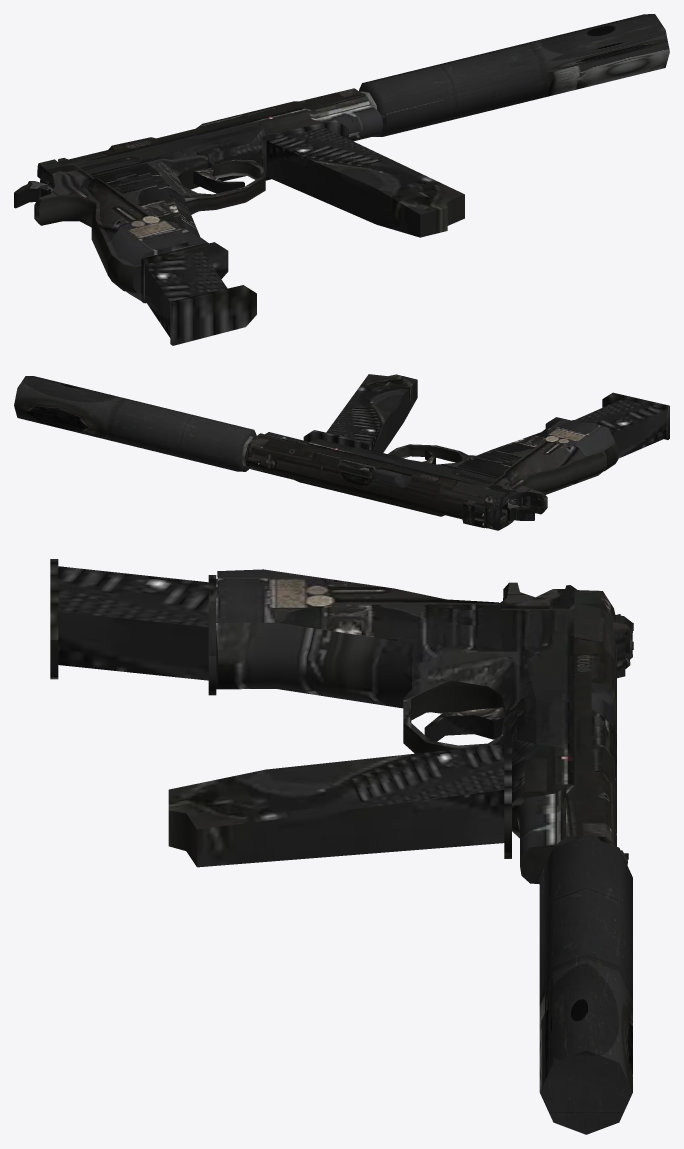
Rendered from t5_weapon_cz75_world.glb.
3 renders of one model, top to bottom at view 1: azimuth 30°, elevation 25°; view 2: azimuth 150°, elevation 25°; view 3: azimuth 270°, elevation 25°, orthographic. The views are drawn at different scales.
Parts seen in each view (by area): view 1: t5_weapon_cz75_world; view 2: t5_weapon_cz75_world; view 3: t5_weapon_cz75_world.
Part boxes in pixels (x1=…): t5_weapon_cz75_world: x1=14, y1=14, x2=669, y2=345; t5_weapon_cz75_world: x1=14, y1=374, x2=669, y2=530; t5_weapon_cz75_world: x1=50, y1=559, x2=633, y2=1134.
Size of the model in its own units: 0.3866 by 0.0324 by 0.1914.
3 materials, 3 textured.
